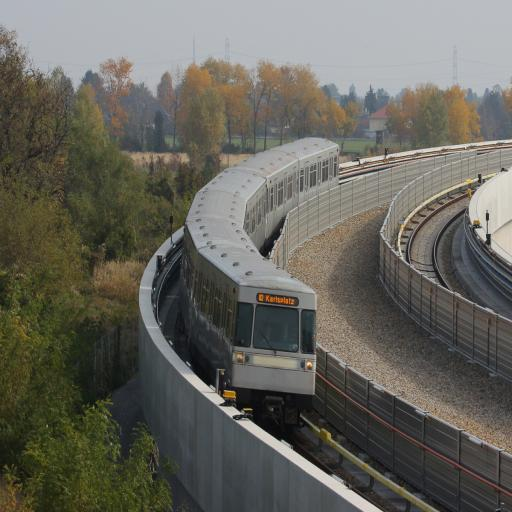Silberpfeil: (178, 132, 342, 399)
